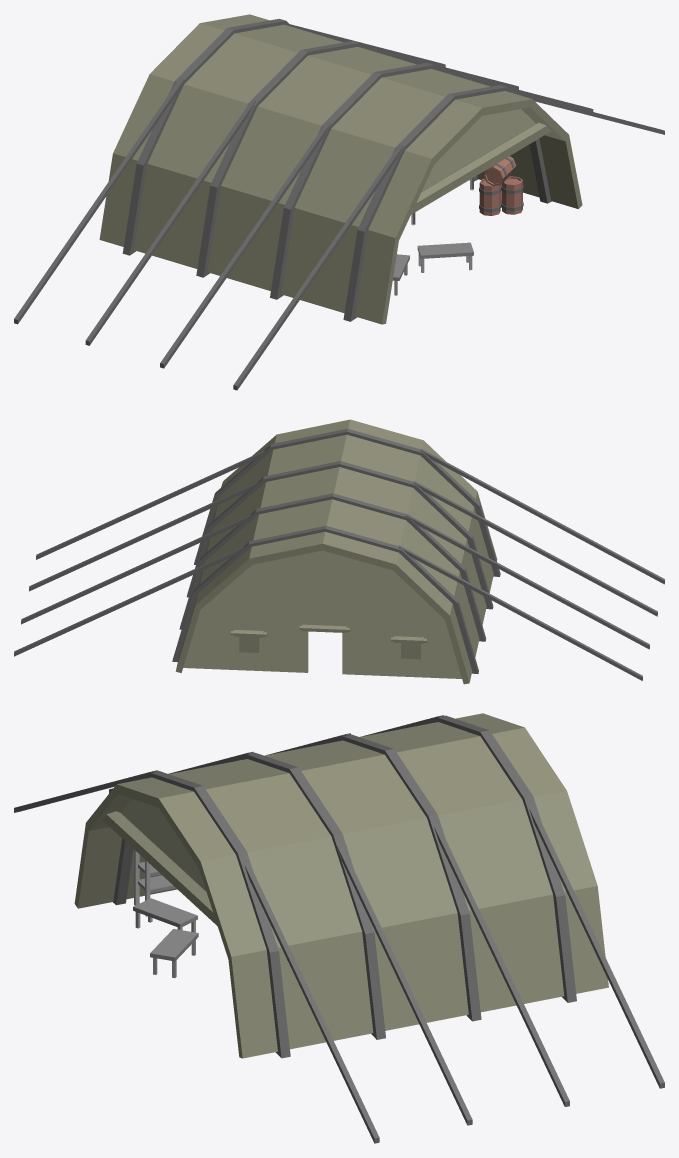
File: p_tent.glb
3 views of the same model, one above another, from view 1: azimuth 30°, elevation 25°; view 2: azimuth 150°, elevation 25°; view 3: azimuth 270°, elevation 25° (orthographic). The views are drawn at different scales.
Parts seen in each view (by area): view 1: hull; view 2: hull; view 3: hull.
Boxes of the visible parts, left/top/right/bottom form: hull: left=14, top=14, right=664, bottom=390; hull: left=14, top=419, right=664, bottom=684; hull: left=14, top=713, right=664, bottom=1143.
Size of the model in its own units: 6 by 1.39 by 4.27.
